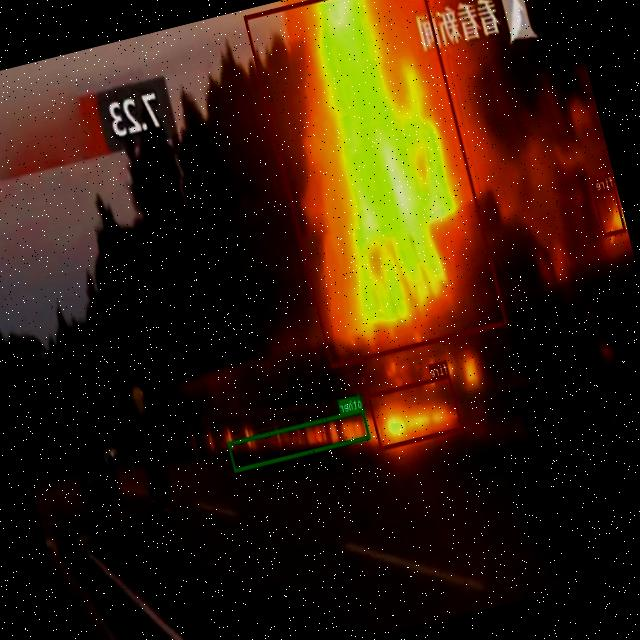fire: (244, 0, 508, 367), (366, 372, 464, 450), (592, 185, 627, 236)
